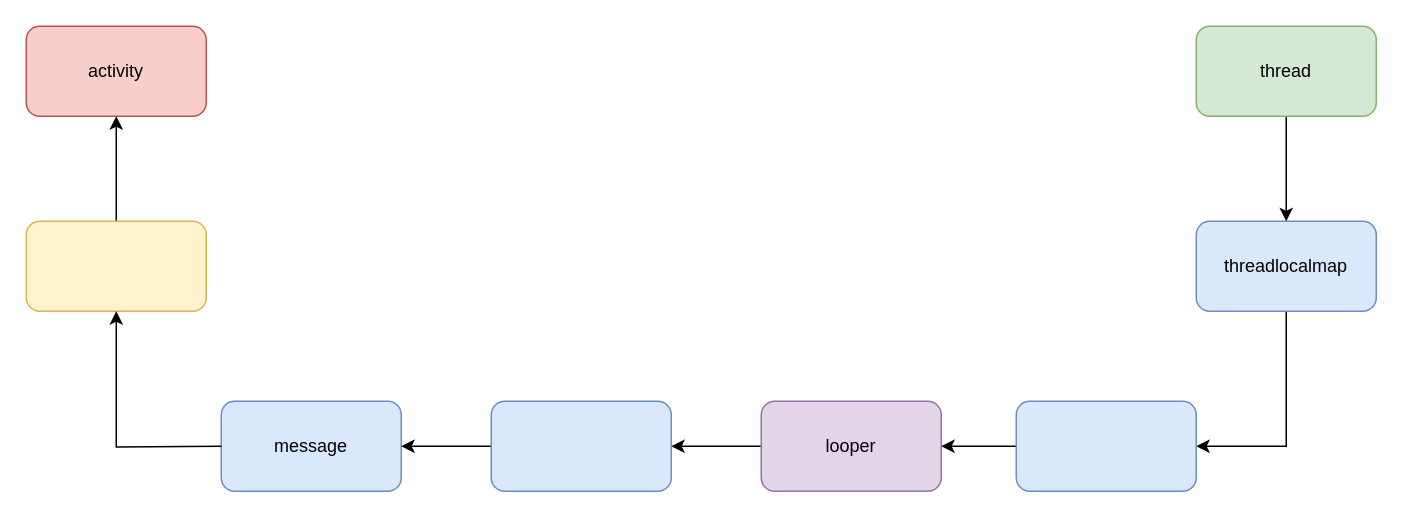
Image size: 1403x518. Some labels were removed from this diagram. Each missing label, with the centre of its shape:
"entry" belongs at (1105,445).
"messagequeue" belongs at (580,445).
"runnable" belongs at (115,265).
